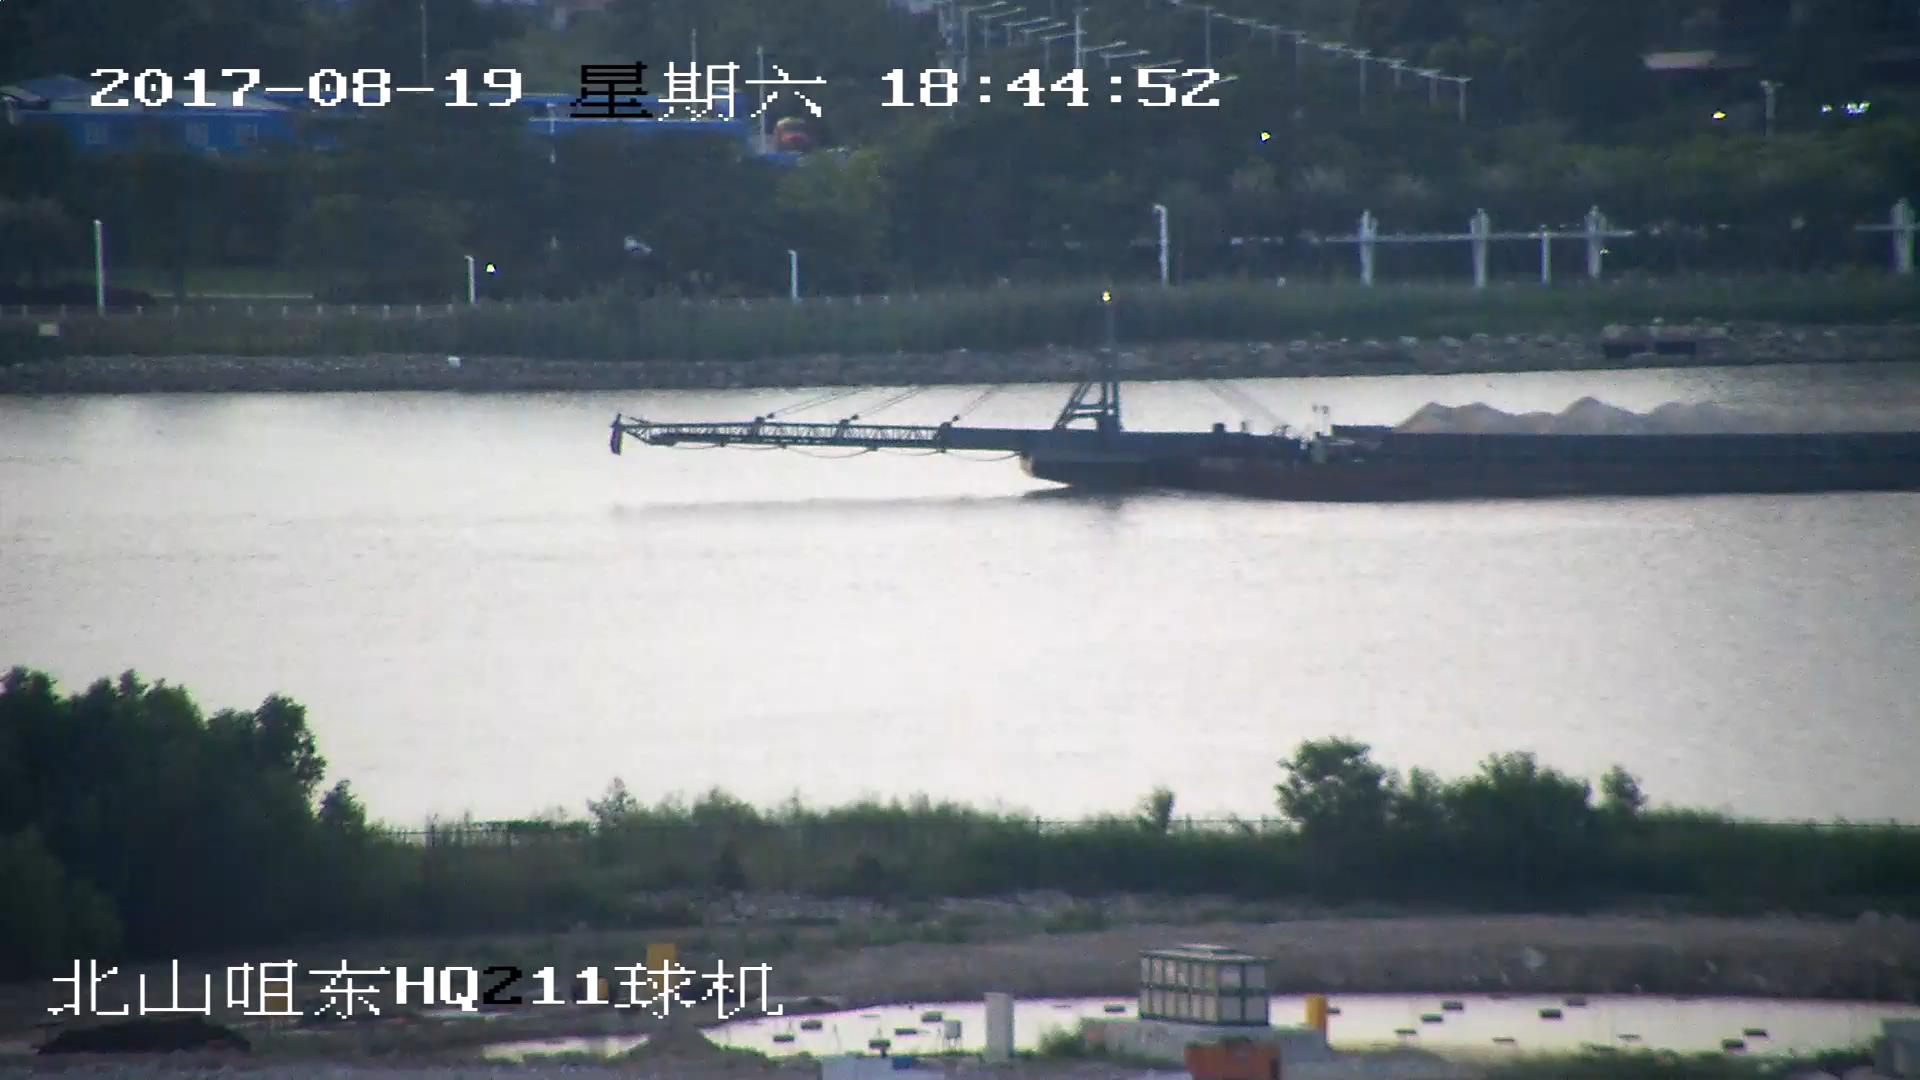ore carrier: (614, 289, 1920, 507)
